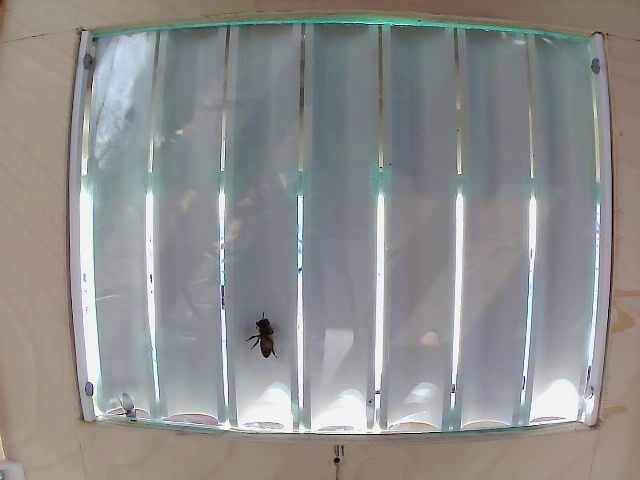bee: (242, 309, 279, 355)
